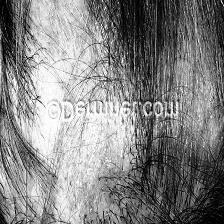Unclassified: (63, 121, 122, 202)
